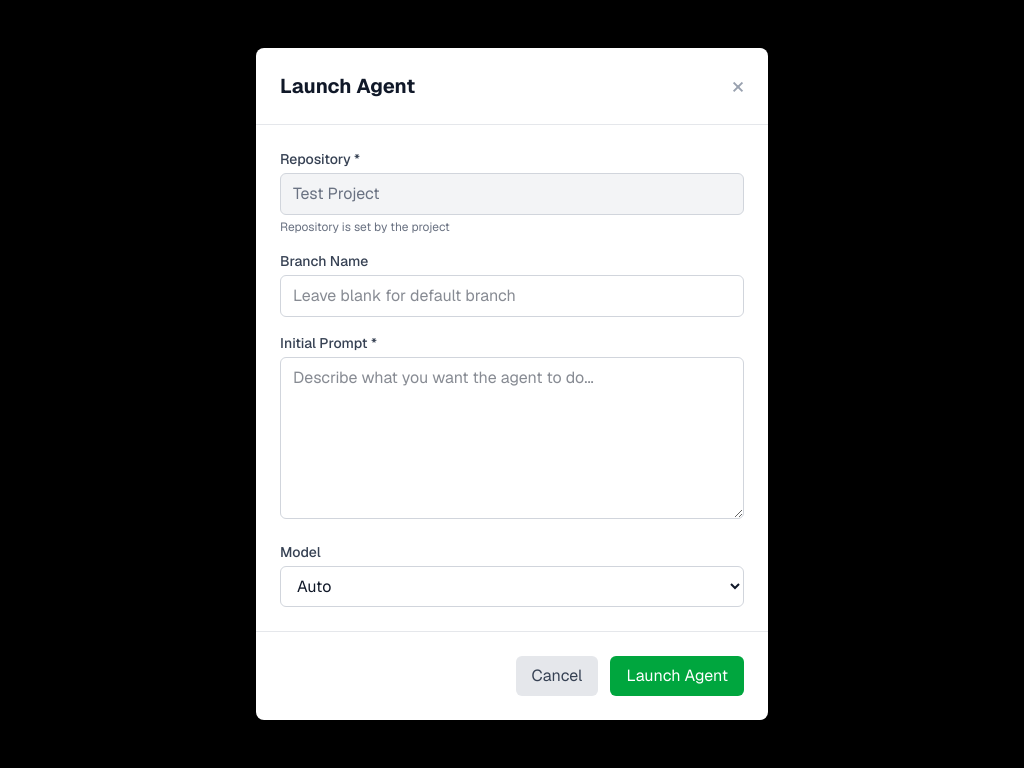
LaunchAgentModal › should handle API errors gracefully
Type "Test prompt" into the text box labelled "Initial Prompt *". click: (512, 438)
box: [280,357,744,519]
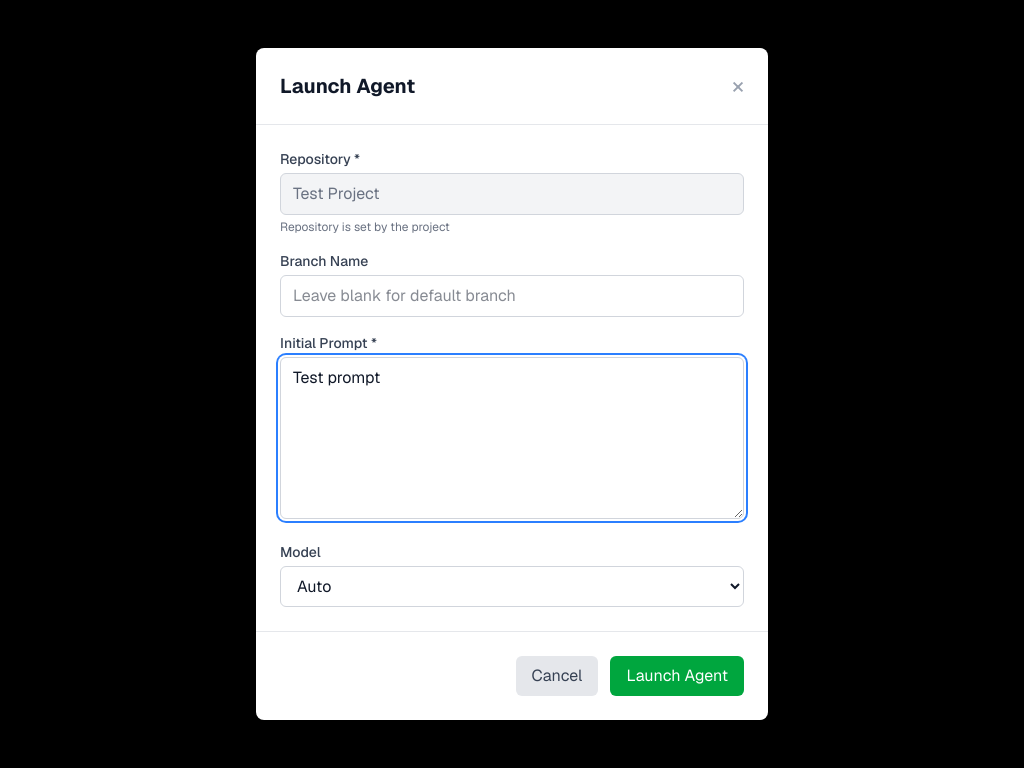
Click the button "Launch Agent". click: (677, 676)
box: [610,656,744,696]
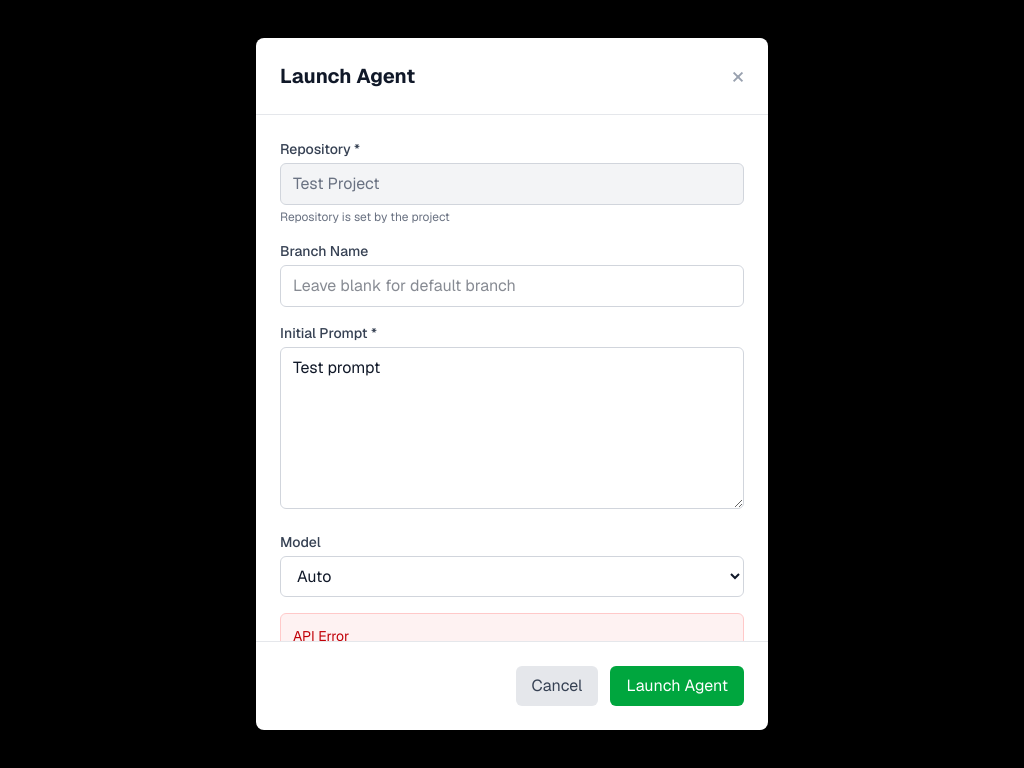
Check: the text "API Error" is shown, box [293,627,349,641]
